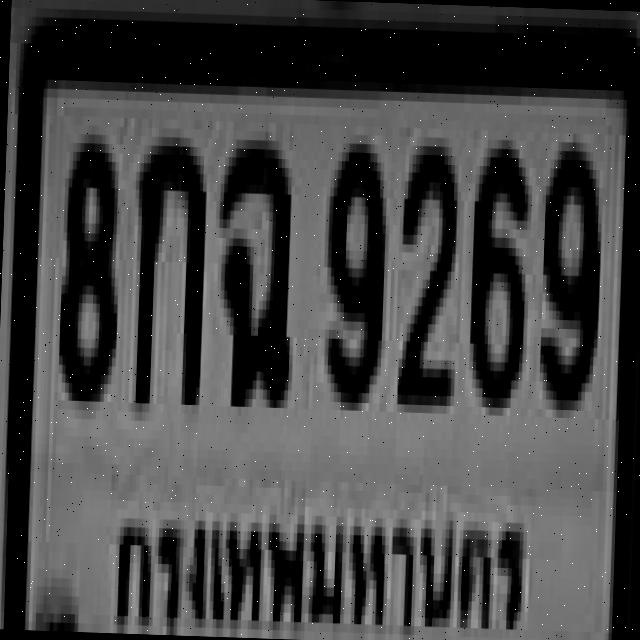10GorGai: (128, 126, 205, 404)
18ChorChing: (211, 130, 295, 398)
2: (394, 136, 456, 396)
6: (464, 134, 526, 394)
8: (54, 125, 120, 392)
9: (534, 132, 600, 400), (319, 129, 385, 397)
Bangkok: (98, 481, 535, 640)
